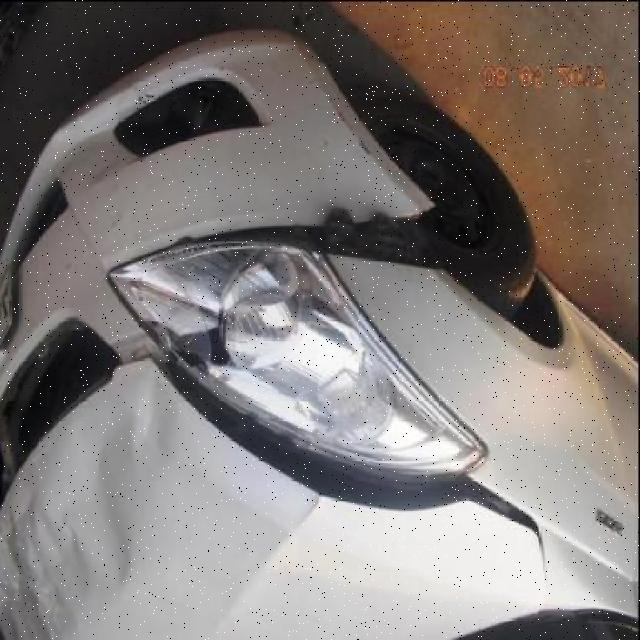damage: (149, 333, 550, 586), (0, 361, 185, 638), (145, 201, 449, 269), (210, 490, 333, 634), (136, 240, 257, 384), (325, 84, 377, 157), (134, 76, 159, 108), (117, 150, 149, 173)
